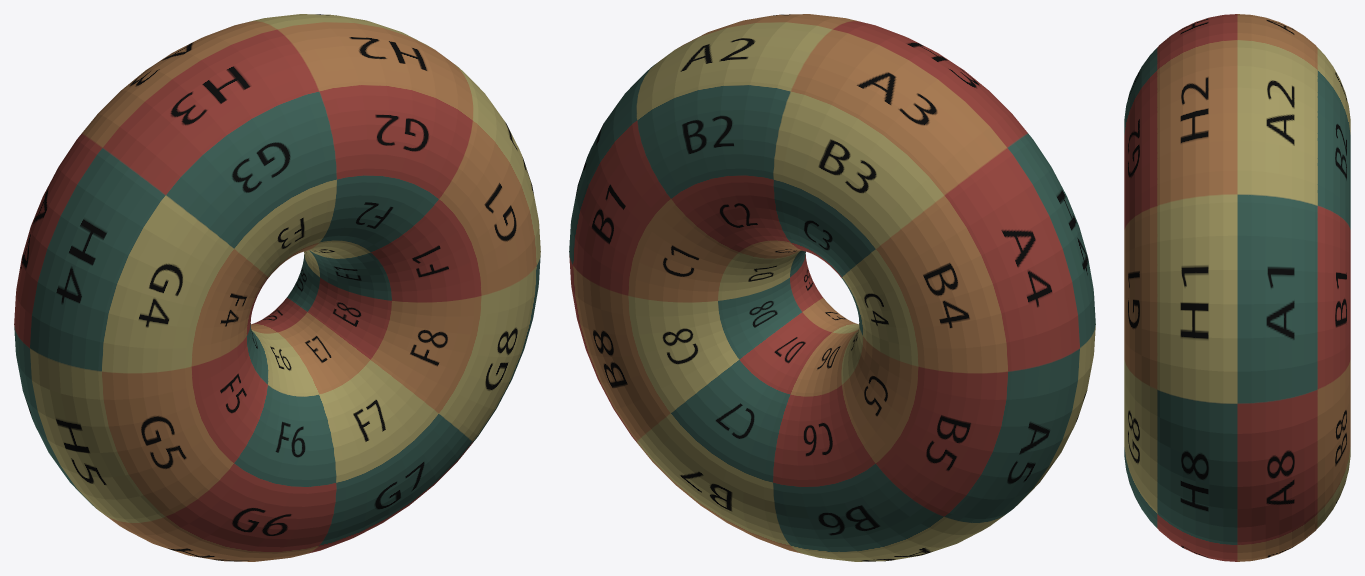
Rendered from texture_torus_R0_r19.glb.
3 renders of one model, left to right at view 1: azimuth 30°, elevation 25°; view 2: azimuth 150°, elevation 25°; view 3: azimuth 270°, elevation 25°, orthographic. The views are drawn at different scales.
Visible parts, largest first — view 1: world; view 2: world; view 3: world.
Boxes of the visible parts, <box> form: world: <box>14,14,540,561</box>; world: <box>569,14,1095,561</box>; world: <box>1124,14,1350,561</box>.
Size of the model in its own units: 17.07 by 17.03 by 7.05.
1 material, 1 textured.
